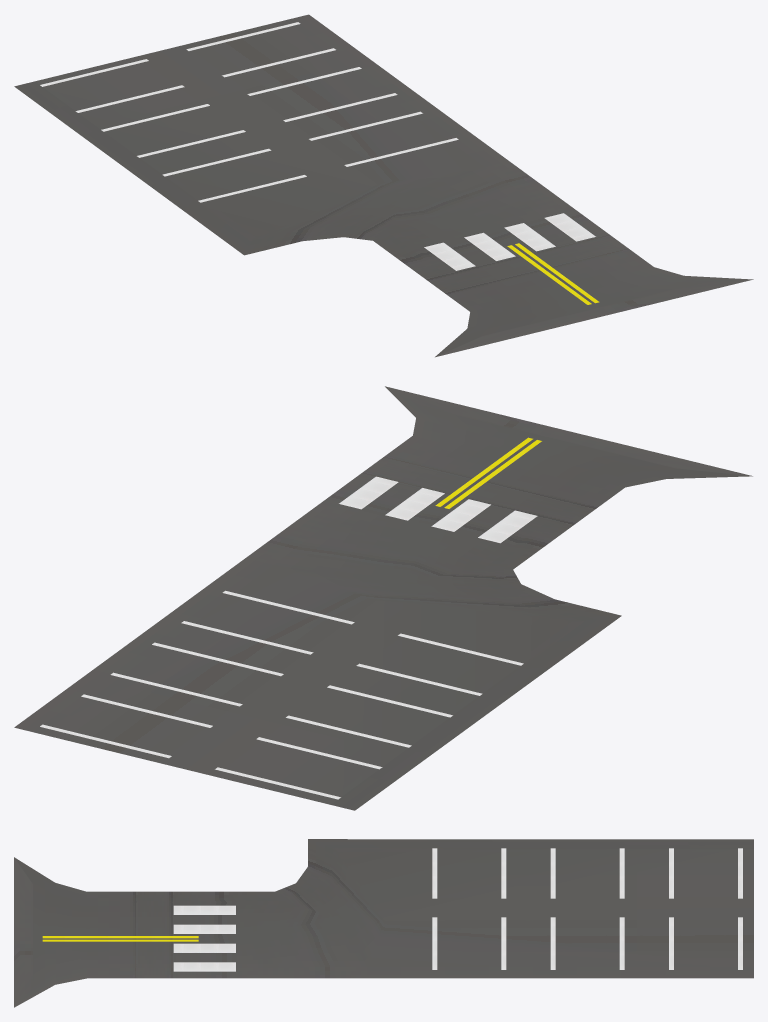
File: Road3.fbx
3 renders of one model, top to bottom at view 1: azimuth 30°, elevation 25°; view 2: azimuth 150°, elevation 25°; view 3: azimuth 270°, elevation 25°, orthographic. The views are drawn at different scales.
Parts seen in each view (by area): view 1: SM_Road_04.mo; view 2: SM_Road_04.mo; view 3: SM_Road_04.mo.
Part boxes in pixels (box(x1,y1,x2,y2)): SM_Road_04.mo: box(14, 14, 753, 357); SM_Road_04.mo: box(14, 386, 752, 810); SM_Road_04.mo: box(14, 839, 753, 1007).
Bounding box in the file's own units: 1538 × 2.6 × 2851.
